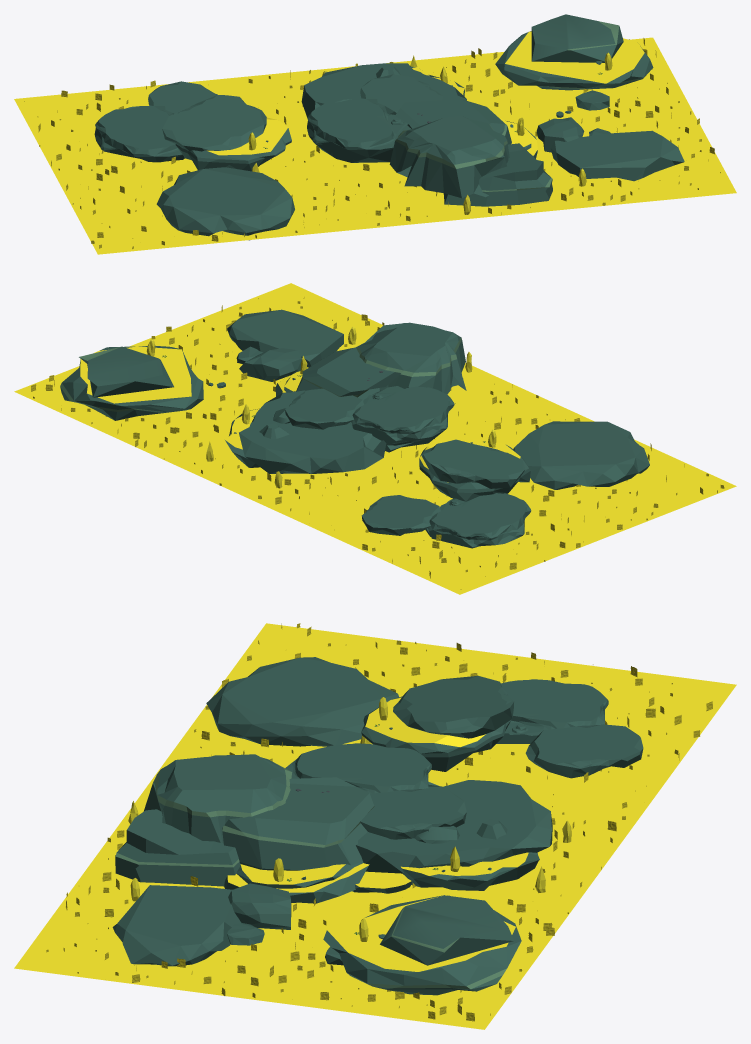
Rendered from Mountains Scene.fbx.
3 renders of one model, top to bottom at view 1: azimuth 30°, elevation 25°; view 2: azimuth 150°, elevation 25°; view 3: azimuth 270°, elevation 25°, orthographic. The views are drawn at different scales.
Visible parts, largest first — view 1: Plane.013, Icosphere.073, Icosphere.055, Icosphere.074, Icosphere.070, Icosphere.063, Icosphere.076, Sphere.007, Icosphere.002, Plane.007, Plane.018, Icosphere.060 (+6 smaller); view 2: Plane.013, Icosphere.073, Icosphere.060, Icosphere.055, Icosphere.070, Icosphere.063, Icosphere.002, Icosphere.074, Icosphere.076, Plane.018, Sphere.007, Sphere.008 (+5 smaller); view 3: Plane.013, Icosphere.073, Sphere.008, Icosphere.060, Icosphere.055, Icosphere.070, Icosphere.074, Sphere.007, Plane.007, Icosphere.076, Plane.018, Icosphere.063 (+10 smaller).
Boxes of the visible parts, bbox=[...] form: Plane.013: bbox=[14, 37, 736, 254]; Icosphere.073: bbox=[156, 167, 294, 240]; Icosphere.055: bbox=[389, 115, 509, 198]; Icosphere.074: bbox=[550, 130, 684, 181]; Icosphere.070: bbox=[495, 31, 653, 90]; Icosphere.063: bbox=[307, 98, 411, 162]; Icosphere.076: bbox=[162, 95, 266, 151]; Sphere.007: bbox=[531, 14, 623, 62]; Icosphere.002: bbox=[94, 106, 184, 162]; Plane.007: bbox=[443, 143, 552, 206]; Plane.018: bbox=[24, 38, 720, 248]; Icosphere.060: bbox=[301, 63, 466, 128]; Plane.013: bbox=[14, 283, 736, 594]; Icosphere.073: bbox=[513, 421, 649, 489]; Icosphere.060: bbox=[239, 390, 386, 473]; Icosphere.055: bbox=[356, 322, 466, 394]; Icosphere.070: bbox=[60, 345, 203, 420]; Icosphere.063: bbox=[349, 386, 454, 452]; Icosphere.002: bbox=[425, 493, 531, 548]; Icosphere.074: bbox=[227, 309, 343, 367]; Icosphere.076: bbox=[421, 439, 525, 488]; Plane.018: bbox=[31, 297, 724, 589]; Sphere.007: bbox=[79, 346, 173, 397]; Sphere.008: bbox=[296, 347, 400, 400]; Plane.013: bbox=[14, 623, 736, 1029]; Icosphere.073: bbox=[206, 657, 398, 746]; Sphere.008: bbox=[222, 777, 374, 870]; Icosphere.060: bbox=[356, 780, 552, 873]; Icosphere.055: bbox=[143, 754, 298, 842]; Icosphere.070: bbox=[323, 895, 521, 995]; Icosphere.074: bbox=[112, 885, 241, 966]; Sphere.007: bbox=[380, 895, 513, 965]; Plane.007: bbox=[115, 809, 240, 886]; Icosphere.076: bbox=[393, 675, 513, 738]; Plane.018: bbox=[46, 623, 712, 1021]; Icosphere.063: bbox=[285, 743, 431, 793].
Bounding box in the file's own units: 38824 × 3859 × 29172.
